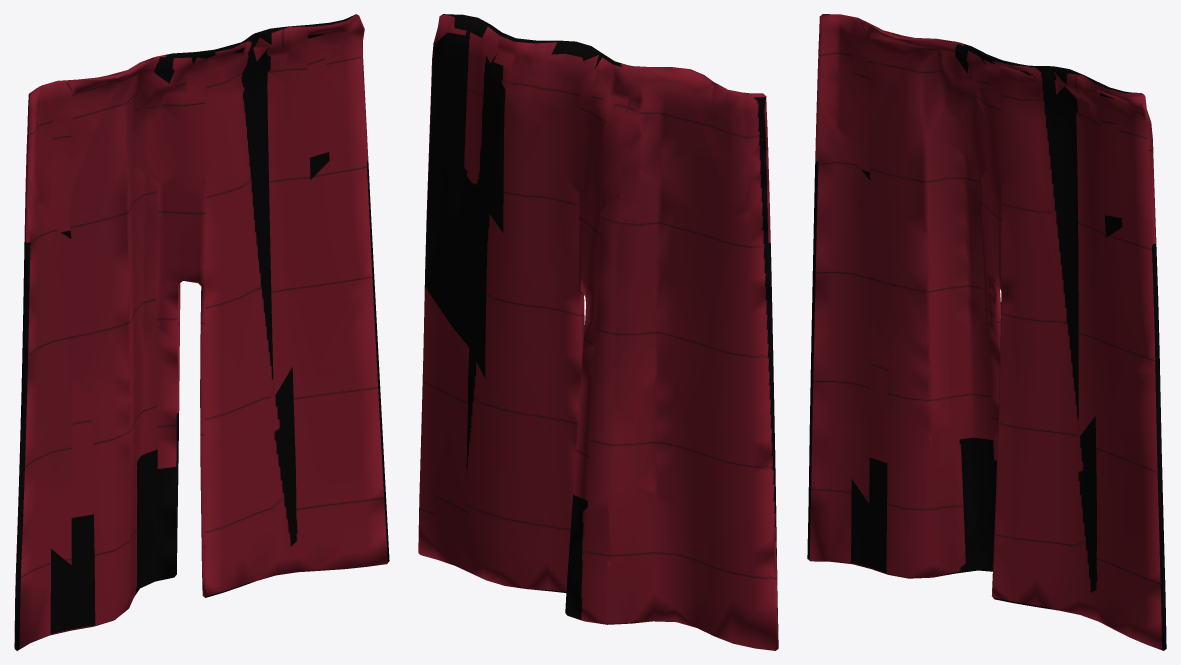
The model's file is Mascarada_SacoCola.fbx.
3 renders of one model, left to right at view 1: azimuth 30°, elevation 25°; view 2: azimuth 150°, elevation 25°; view 3: azimuth 330°, elevation 25°, orthographic.
Parts seen in each view (by area): view 1: Mascarada_SacoCola; view 2: Mascarada_SacoCola; view 3: Mascarada_SacoCola.
Part boxes in pixels (x1,y1,x2,y2): Mascarada_SacoCola: (14,14,389,650); Mascarada_SacoCola: (418,14,778,650); Mascarada_SacoCola: (807,14,1166,650).
Bounding box in the file's own units: 2.29 × 3.32 × 0.3964.
